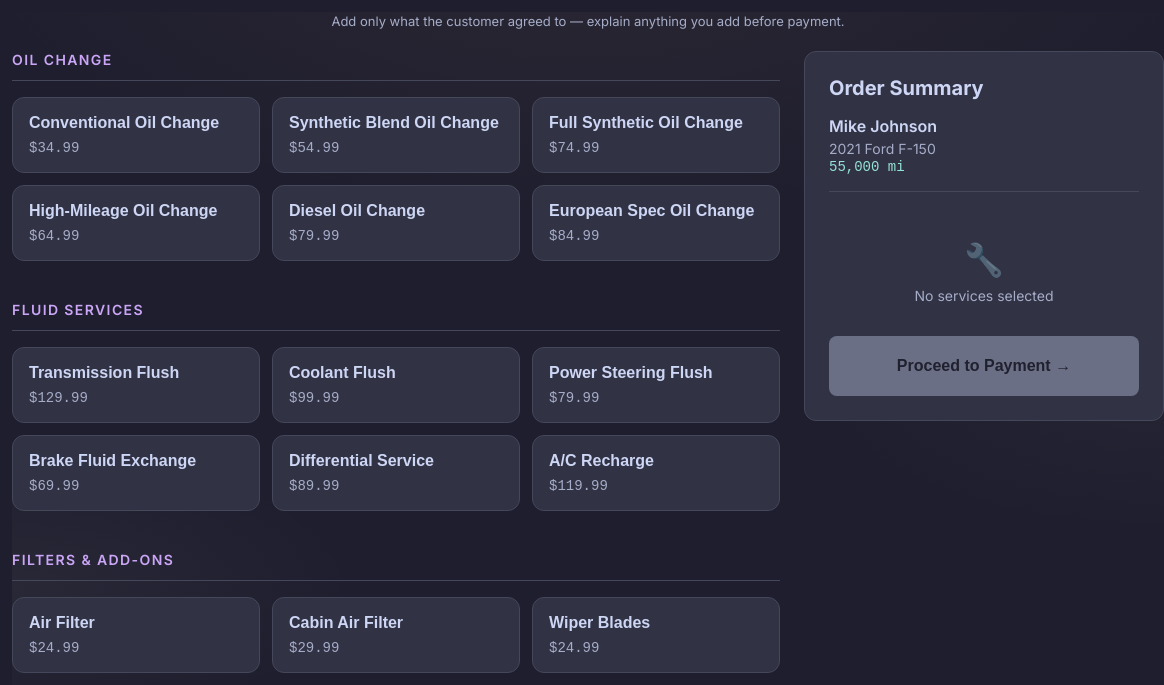
Scenario: ServicesScreen › oil change single-select
# Click first oil change
What coordinates should you click on to do the following:
click the text "Conventional Oil Change"
I would click on:
 (124, 123)
Its box is [29,114,219,132].
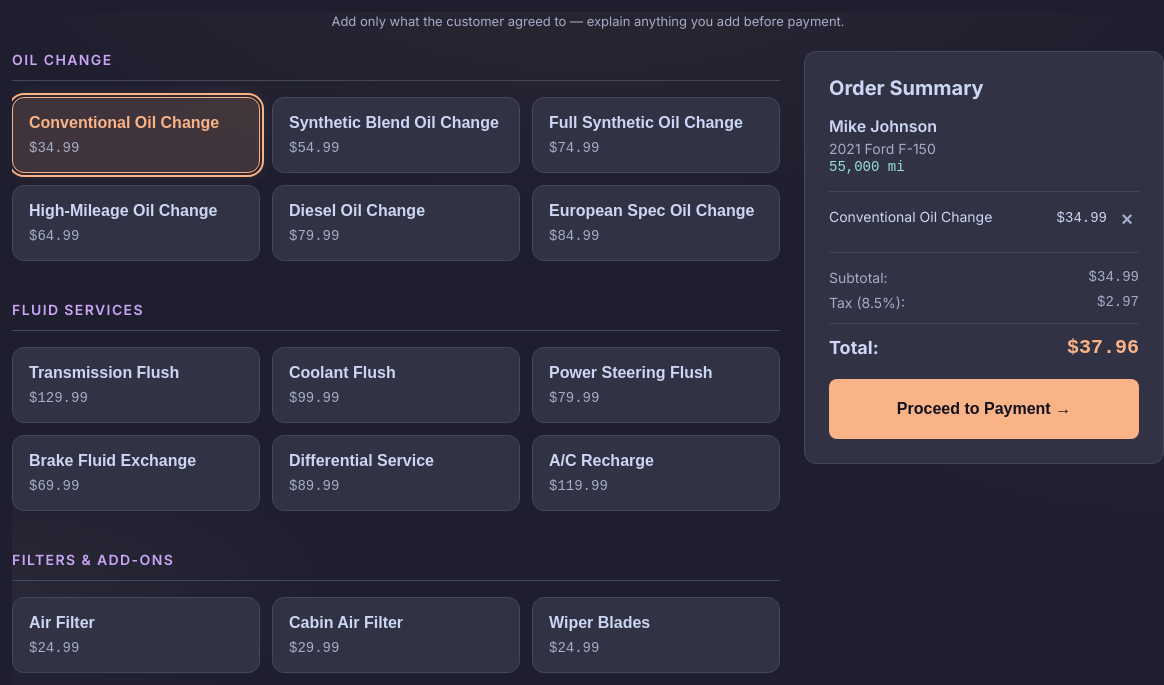
Result: the text "Conventional Oil Change" below "55,000" is shown at [829,208,992,225]
# Click second oil change
What coordinates should you click on to do the following:
click the text "Full Synthetic Oil Change"
I would click on:
 (646, 123)
Its box is [549,114,743,132].
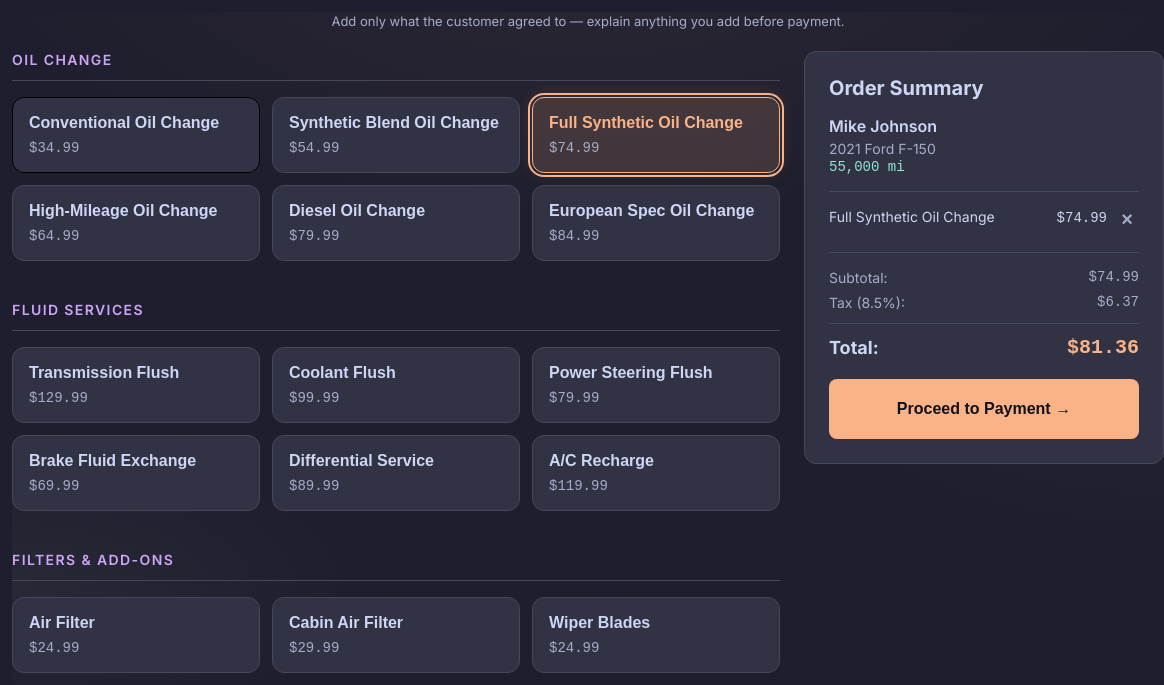
Result: the text "Full Synthetic Oil Change" below "55,000" is shown at [829,208,995,225]
